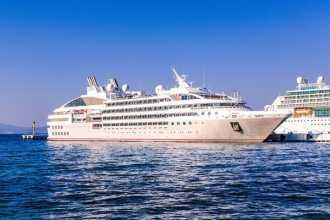youlun: (43, 76, 281, 143), (267, 77, 330, 138)
